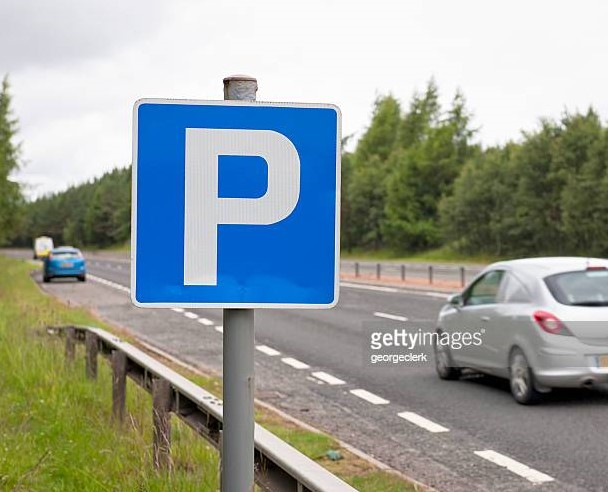Parking: (128, 96, 341, 310)
